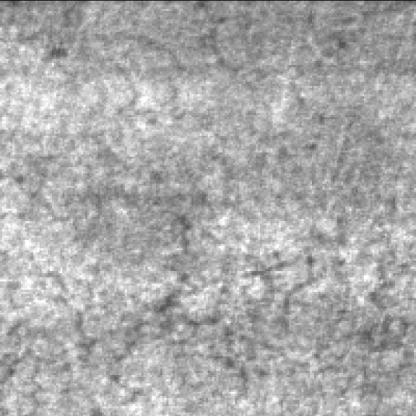crazing: (108, 200, 416, 410), (4, 268, 104, 416)
